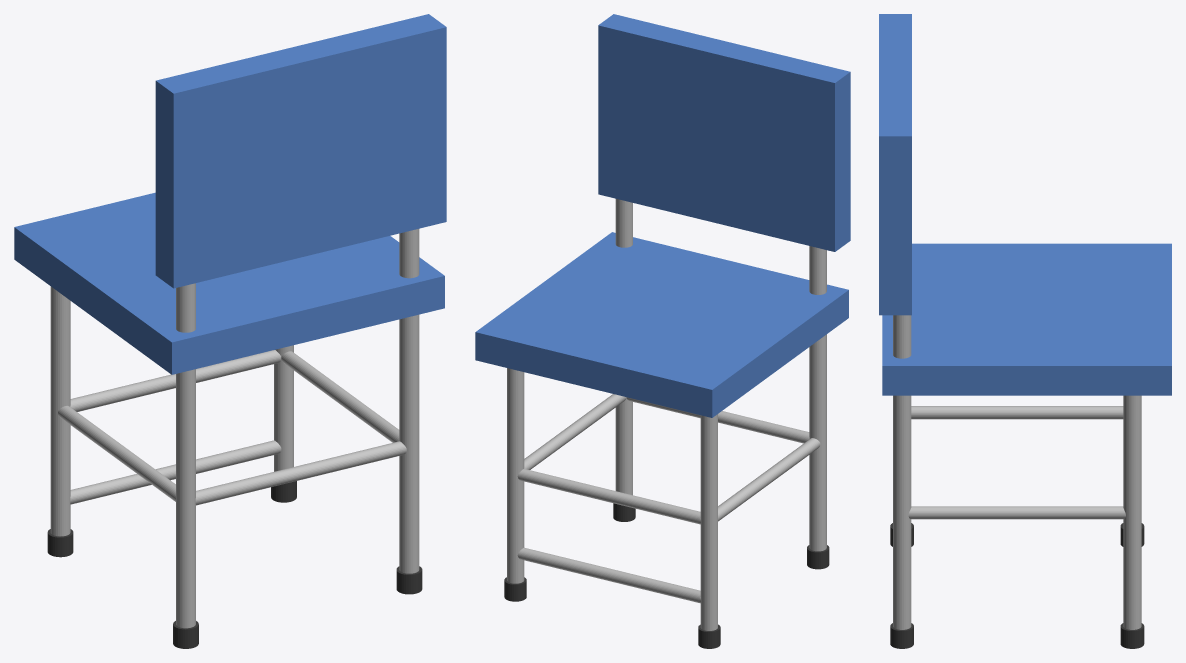
Rendered from silla.fbx.
3 views of the same model, side by side, from view 1: azimuth 30°, elevation 25°; view 2: azimuth 150°, elevation 25°; view 3: azimuth 270°, elevation 25° (orthographic). The views are drawn at different scales.
Visible parts, largest first — view 1: Silla_Escolar; view 2: Silla_Escolar; view 3: Silla_Escolar.
Boxes of the visible parts, box(x1,y1,x2,y2) form: Silla_Escolar: box(14, 14, 446, 648); Silla_Escolar: box(475, 14, 850, 648); Silla_Escolar: box(879, 14, 1171, 648).
Bounding box in the file's own units: 0.44 × 0.87 × 0.445.
